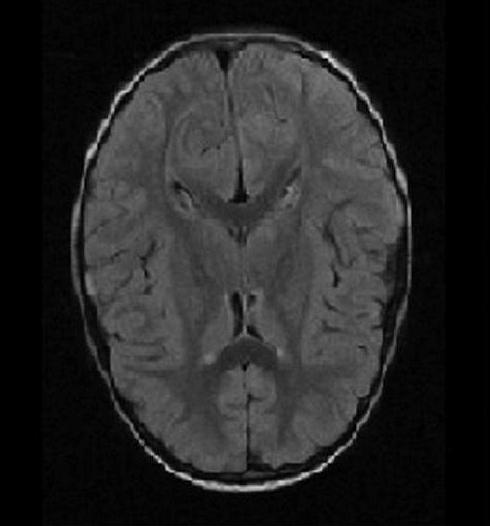Normal_Brain: (1, 1, 405, 523)
